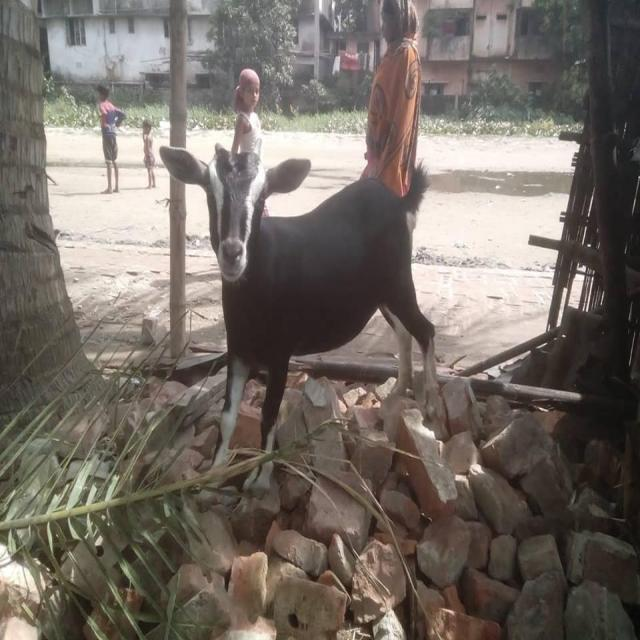Goat: (158, 140, 448, 496)
